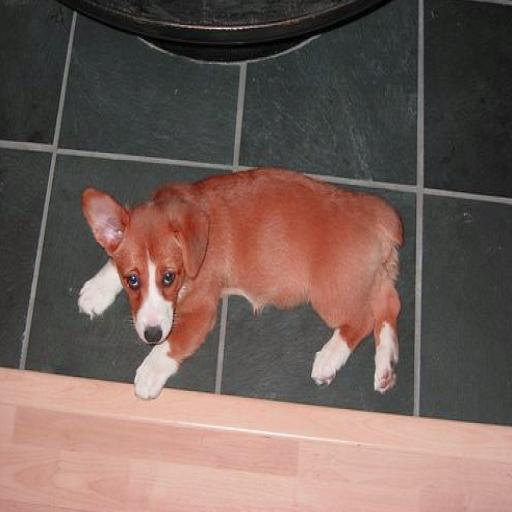dog_face: (82, 188, 202, 344)
